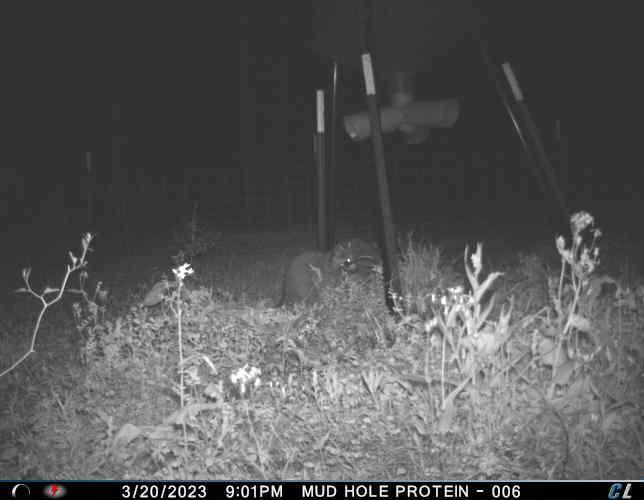Raccoon: (272, 239, 360, 309)
